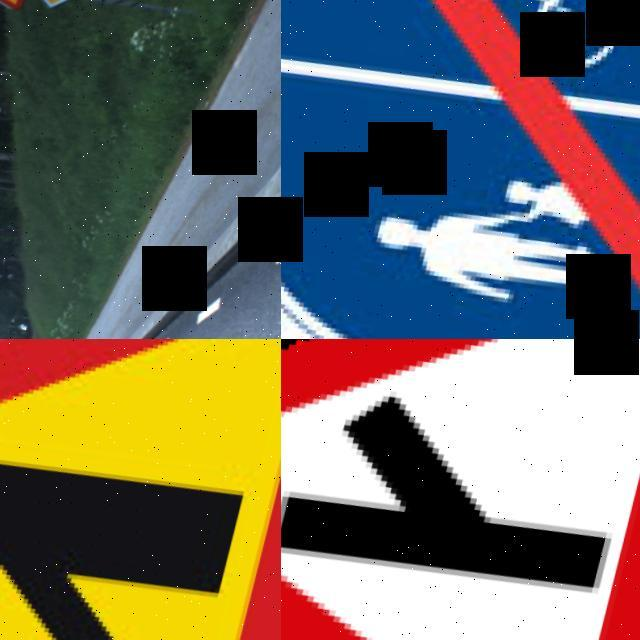166: (0, 339, 281, 640)
57: (27, 0, 86, 17)
Oblique side road junction: (281, 339, 640, 640)
no entry for bicycles and humans: (281, 0, 640, 339)
